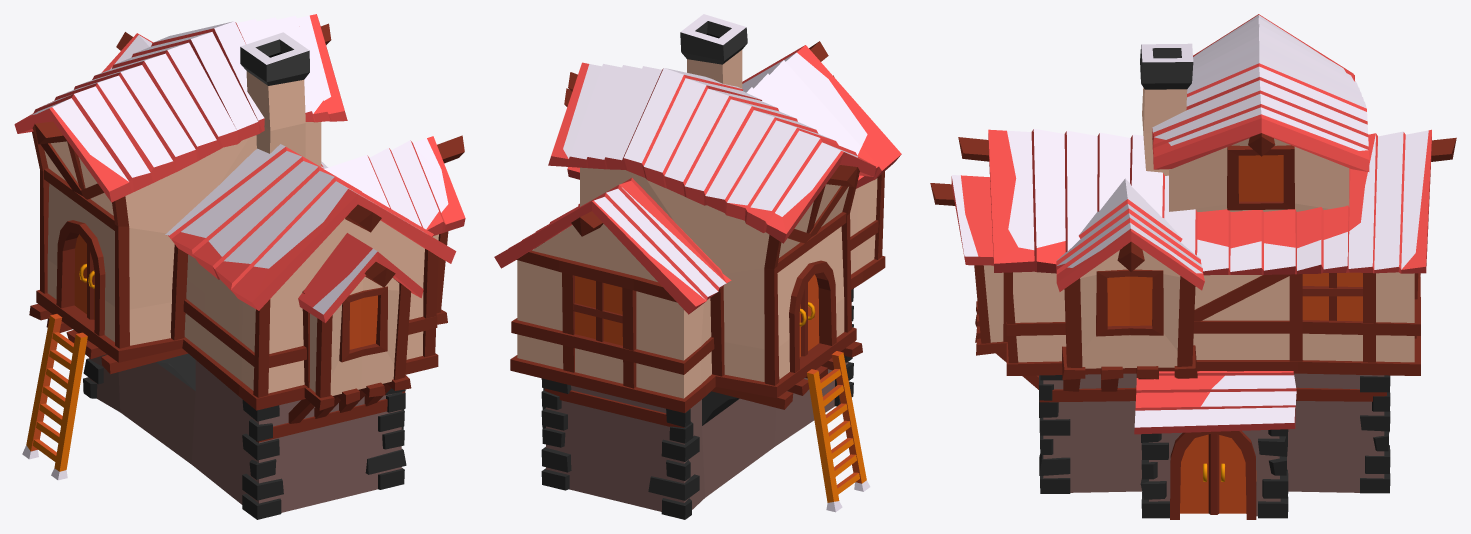
Rendered from winter_castle_house2.glb.
3 renders of one model, left to right at view 1: azimuth 30°, elevation 25°; view 2: azimuth 150°, elevation 25°; view 3: azimuth 270°, elevation 25°, orthographic. The views are drawn at different scales.
Parts seen in each view (by area): view 1: House2_Medieval_0; view 2: House2_Medieval_0; view 3: House2_Medieval_0.
Boxes of the visible parts, x1,y1,x2,y2 form: House2_Medieval_0: (14, 14, 465, 519); House2_Medieval_0: (494, 14, 901, 519); House2_Medieval_0: (930, 14, 1456, 519).
Size of the model in its own units: 5.65 by 6.04 by 7.02.
Materials: 1 (1 with a texture image).
